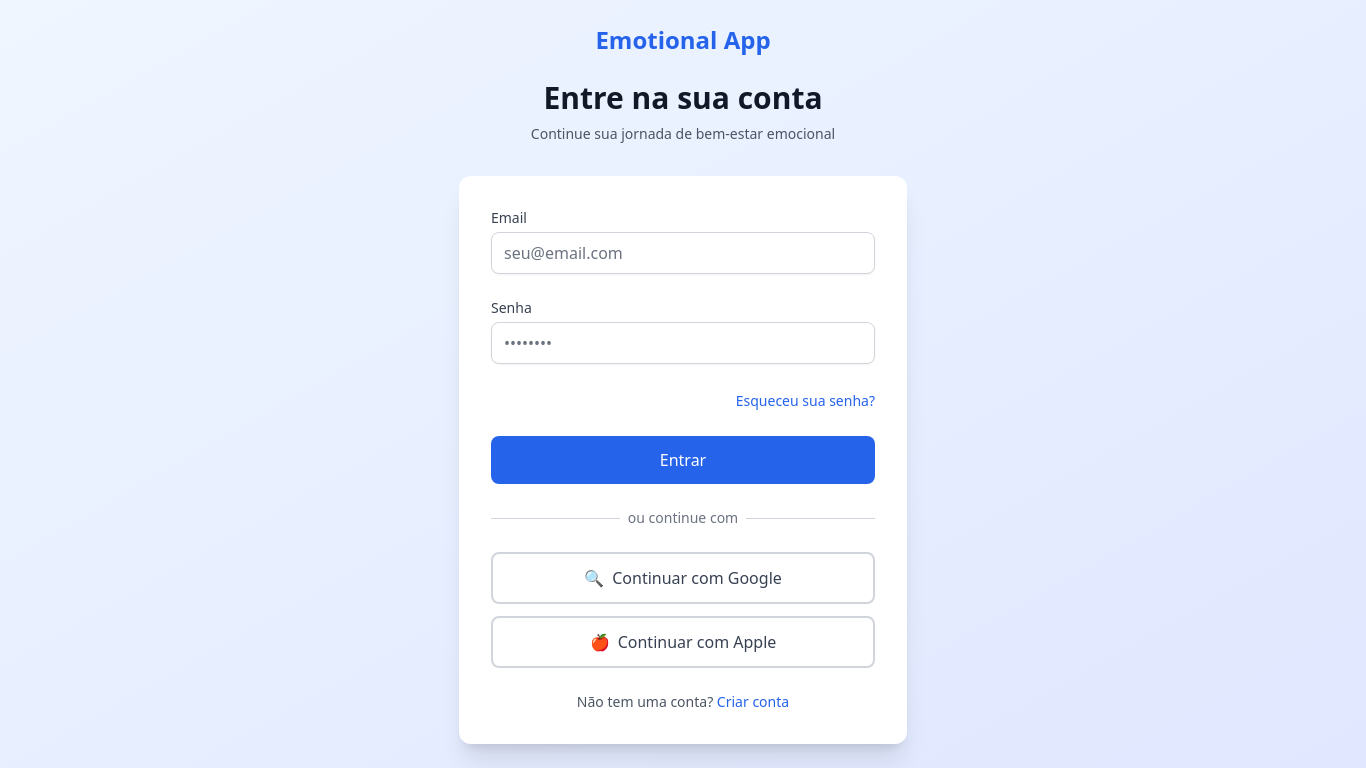
Scenario: LoginPage — Google Sign-In (KAN-15/KAN-74) › backend rejects the token: shows the error, does not navigate
Click the text "Continuar com Google" at (697, 578), box [612, 566, 782, 590]
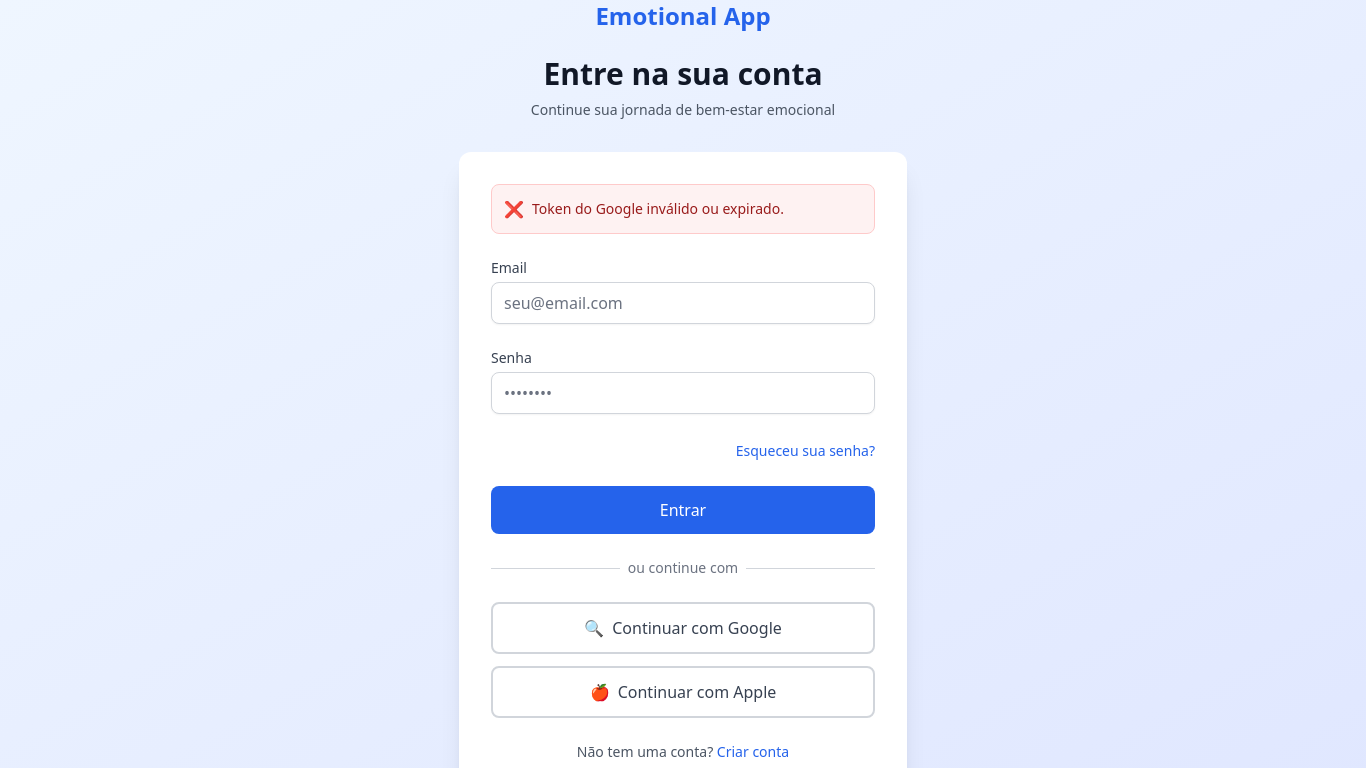
Now the text "Token do Google inválido ou expirado." is shown, box [532, 199, 784, 219]
